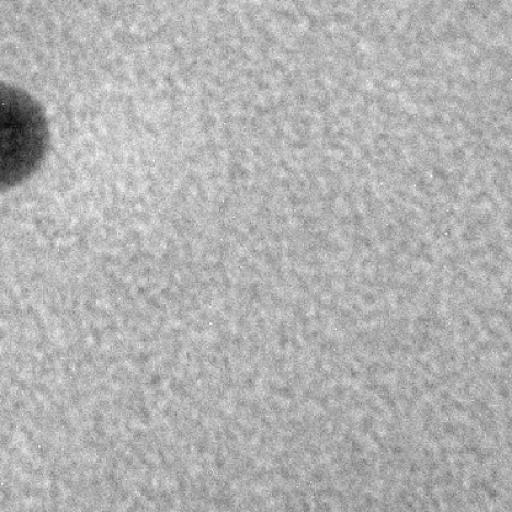Nanoparticles: (2, 82, 50, 188)
